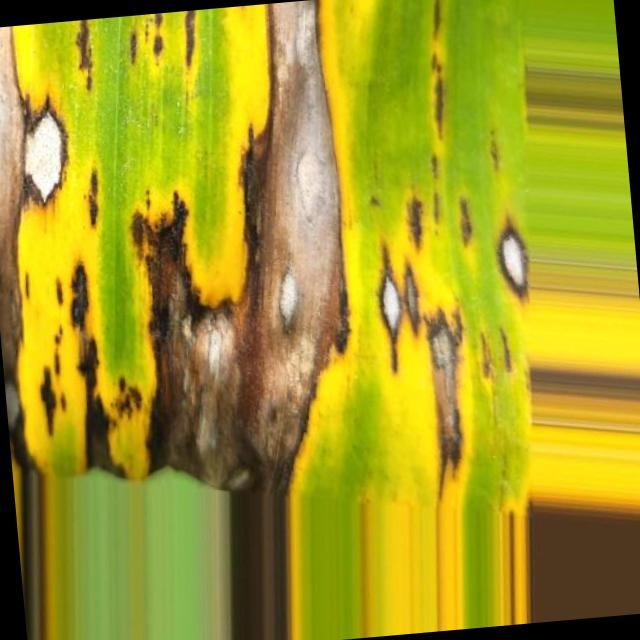Banana_Yellow_Sigatoka: (345, 0, 640, 622), (115, 0, 392, 640), (0, 18, 148, 640)
